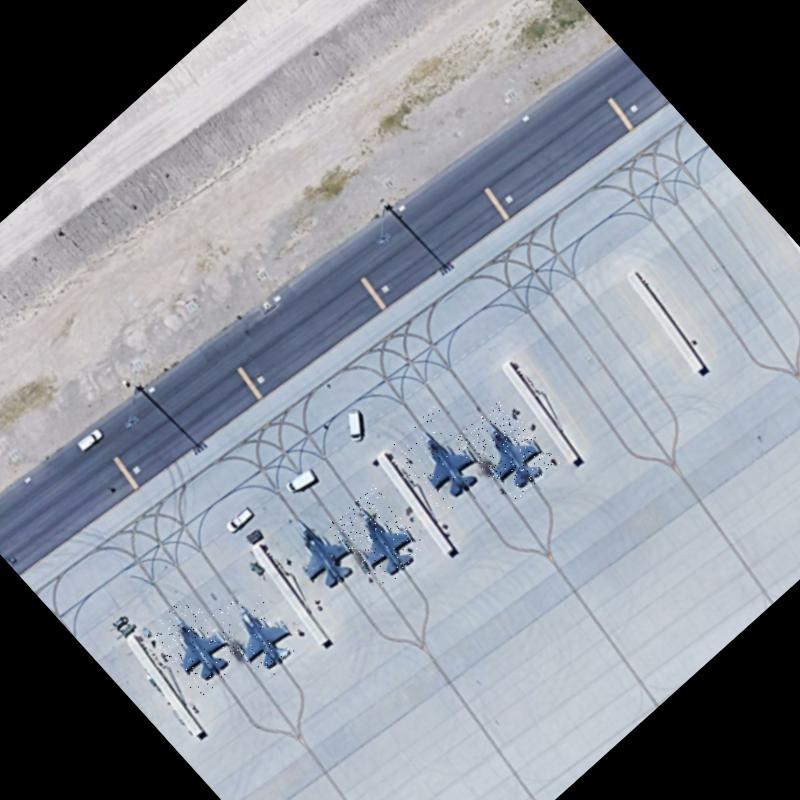A5: (383, 404, 496, 516), (454, 396, 560, 504), (142, 592, 246, 698), (326, 483, 430, 589), (269, 499, 371, 604), (207, 581, 307, 682)
